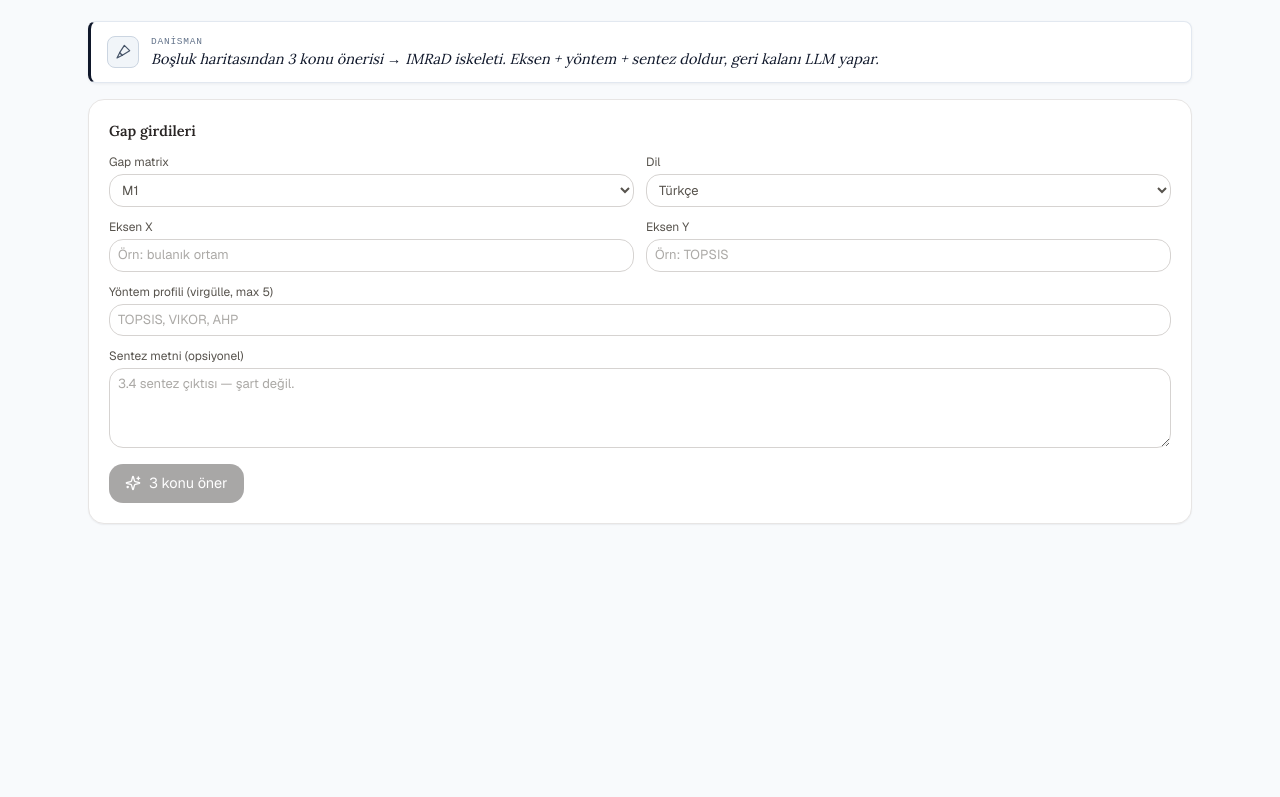
it: WritingSkeletonPage › kart sec → İskeleti olustur → POST /draft-skeleton + IMRaD render
The image size is (1280, 797).
Type "x" into the field with placeholder "Örn: bulanık ortam" at (372, 255), box [109, 239, 634, 272]
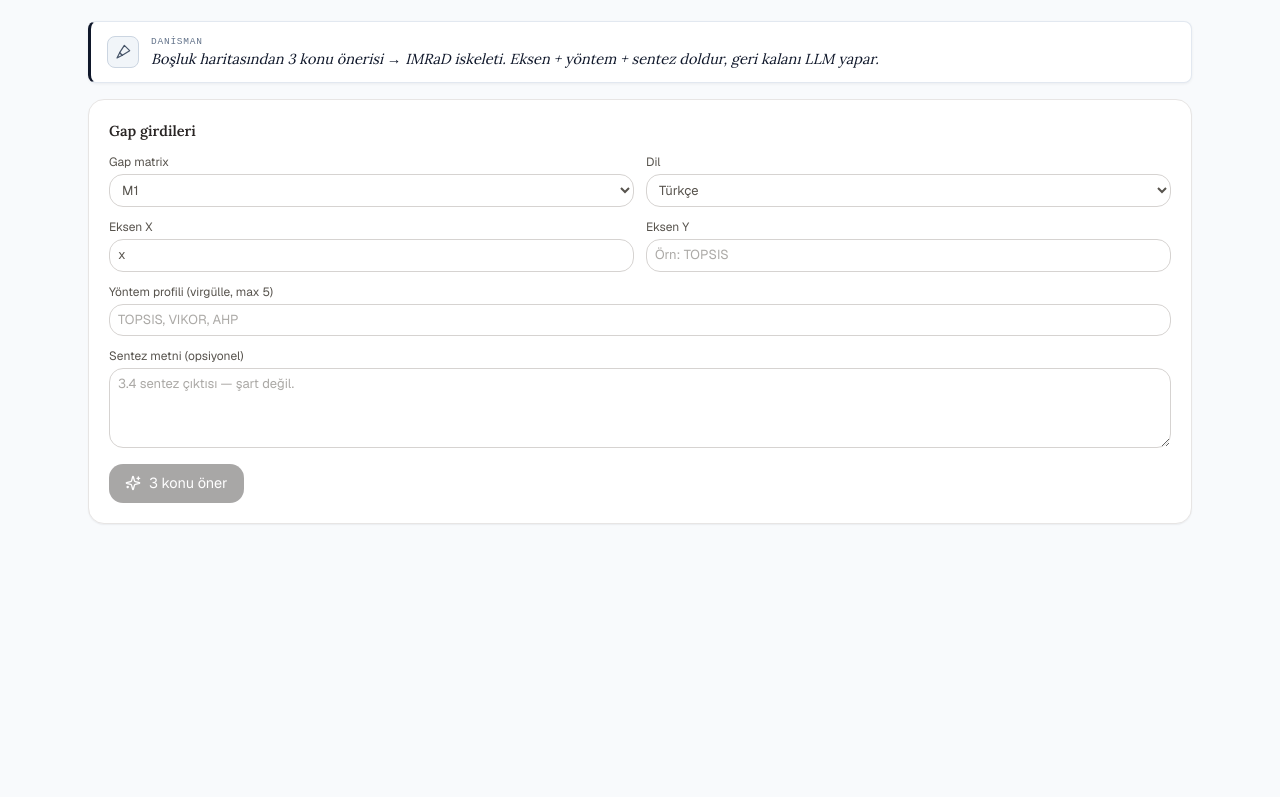
Type "y" into the field with placeholder "Örn: TOPSIS" at (908, 255), box [646, 239, 1171, 272]
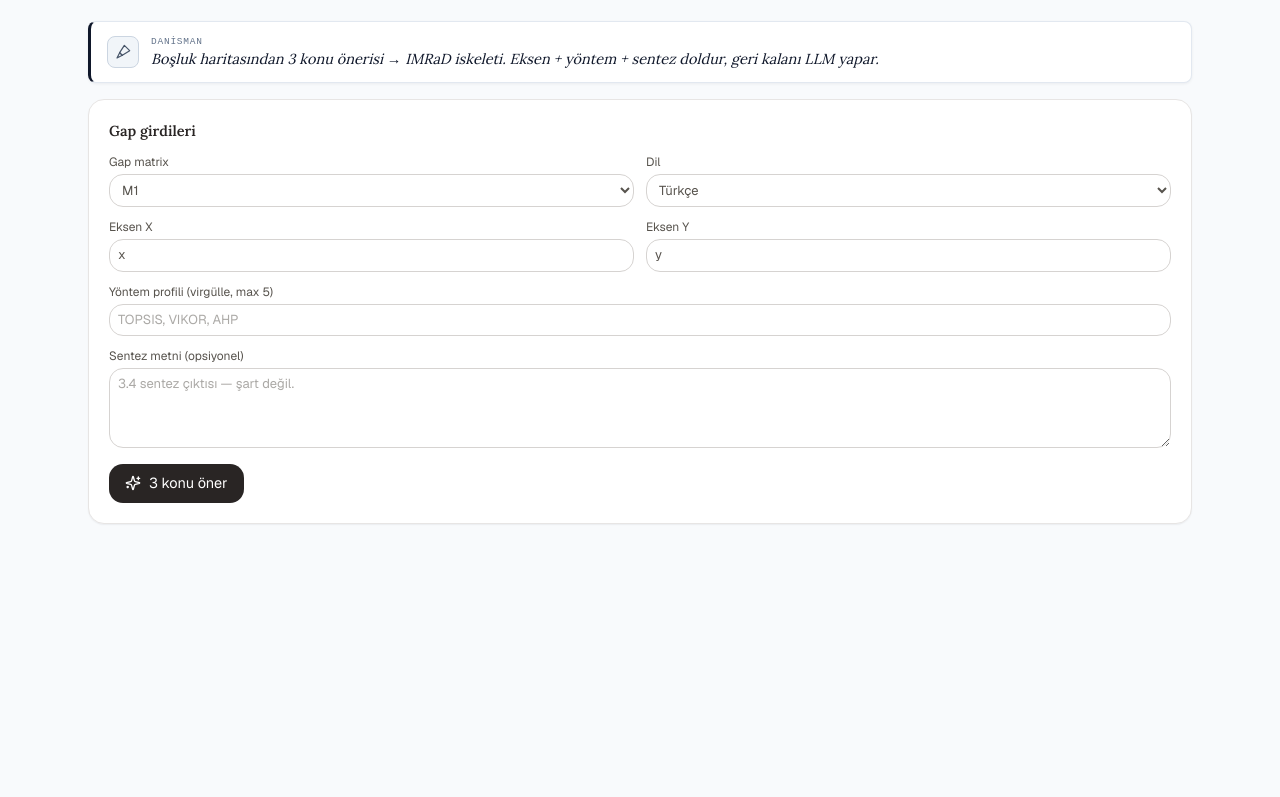
Click the button "3 konu öner" at (176, 483), box [109, 464, 244, 503]
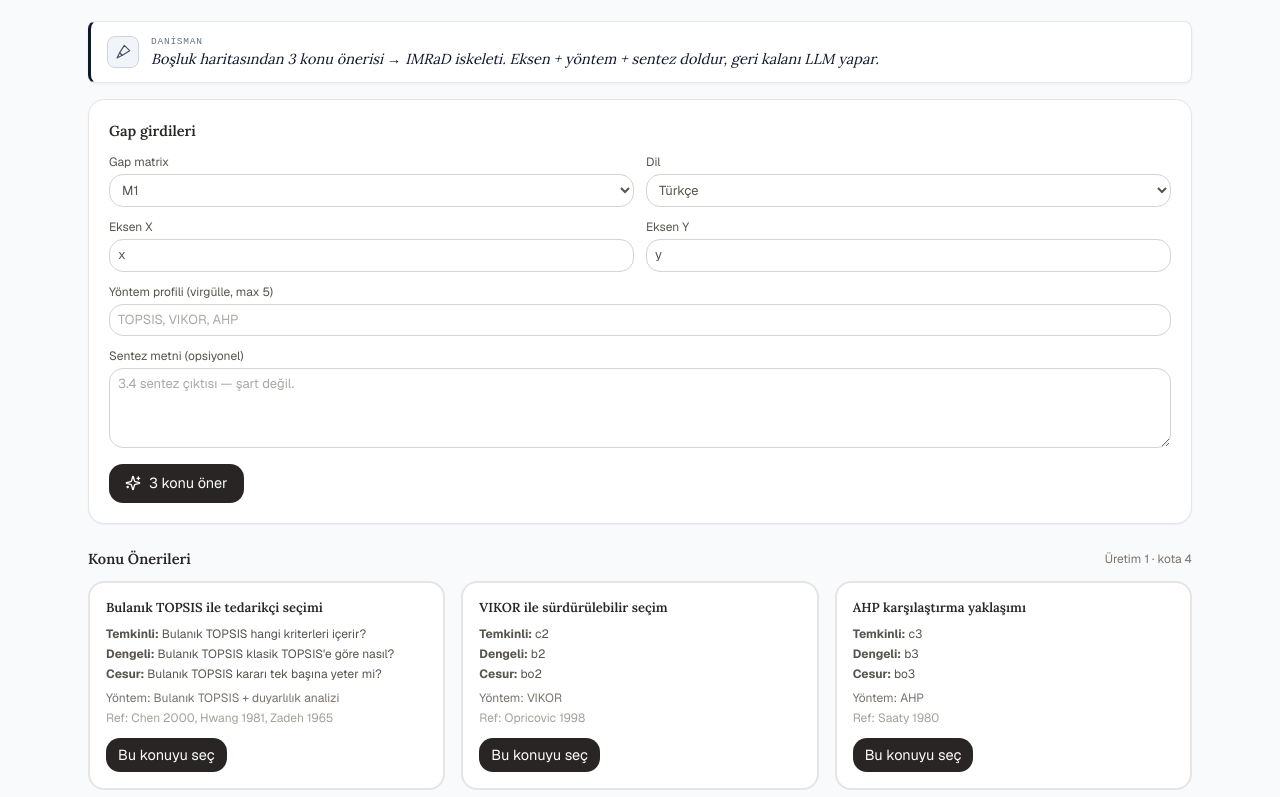
Expected: the heading "Bulanık TOPSIS ile tedarikçi seçimi" is shown, [106, 599, 323, 618]
Click the button "Bu konuyu seç" below "Chen 2000, Hwang 1981, Zadeh 1965" at (166, 755), box [106, 738, 227, 772]
(page scrolled)
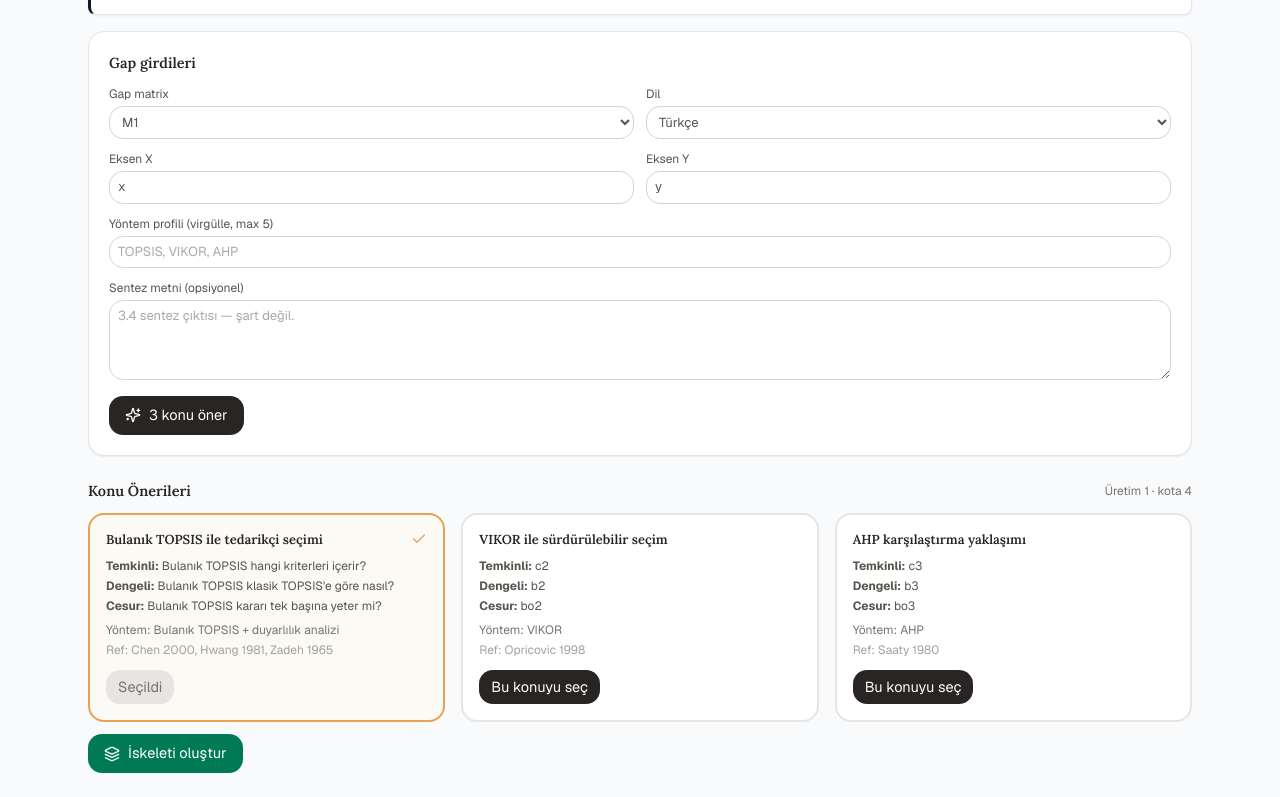
Click the button "İskeleti oluştur" at (165, 754), box [88, 734, 243, 773]
(page scrolled)
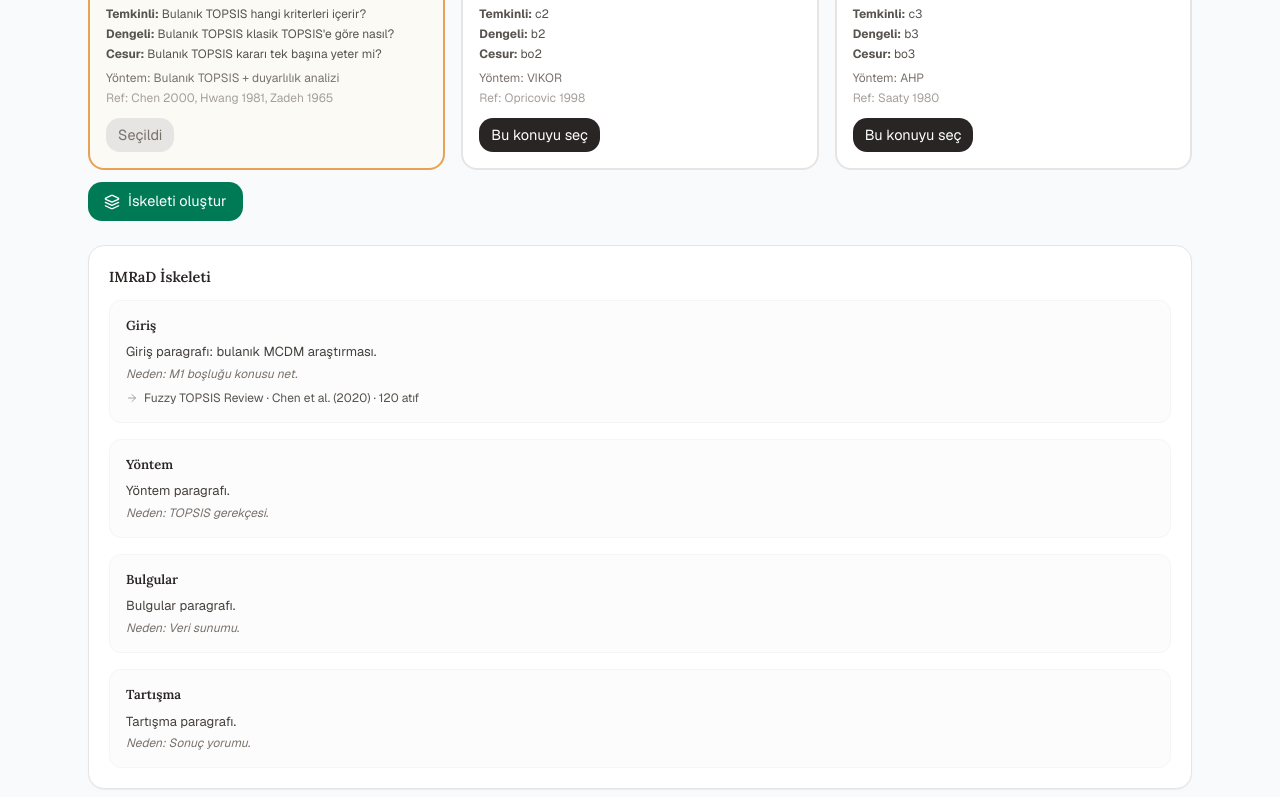
Expected: the heading "IMRaD İskeleti" is shown, [109, 267, 211, 286]
Expected: the text "Giriş paragrafı: bulanık MCDM araştırması." is shown, [126, 343, 376, 360]
Expected: the text "Fuzzy TOPSIS Review · Chen et al. (2020) · 120 atıf" is shown, [144, 390, 419, 406]
